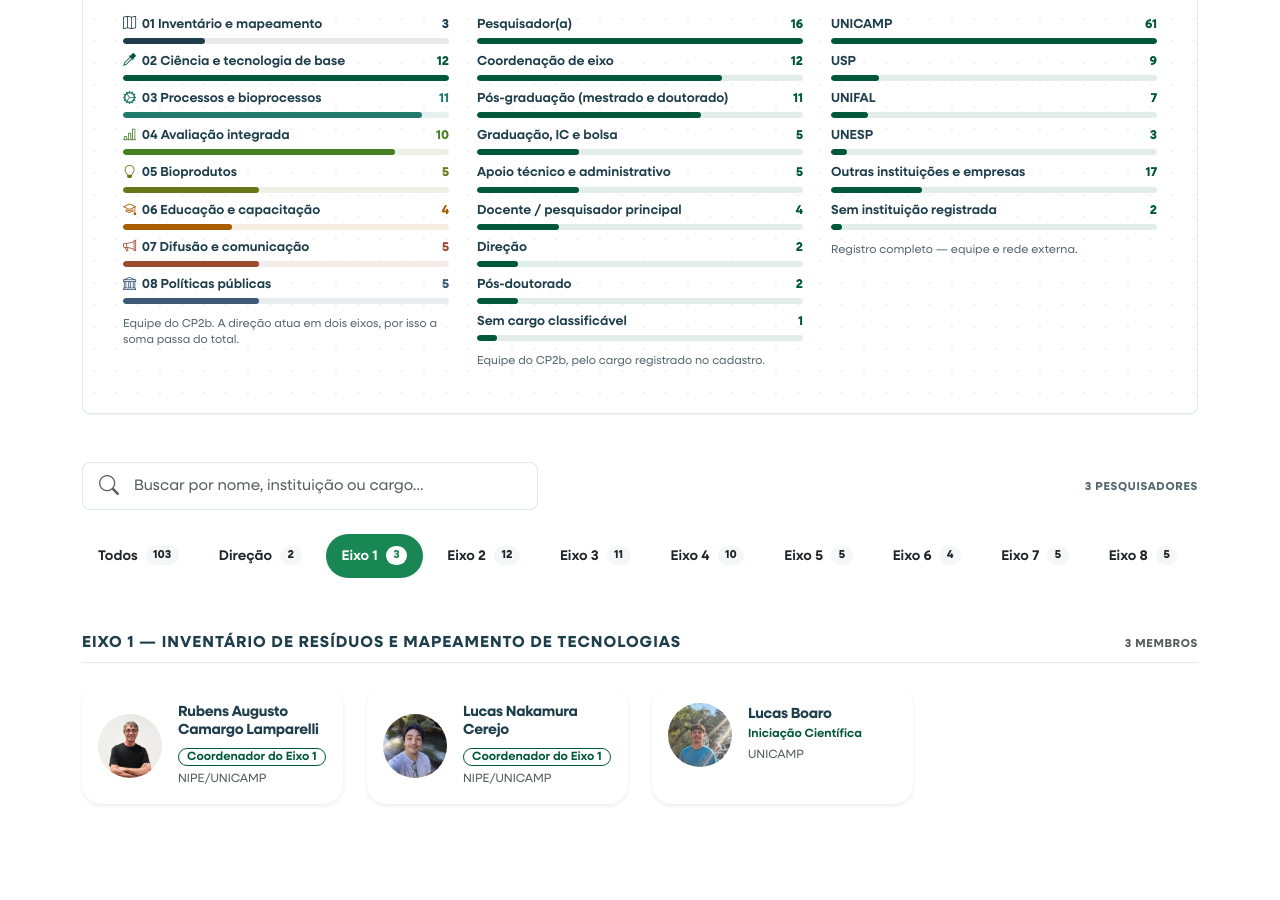
Team page — grouped by Eixo › opens a profile with the person’s CV links when their card is clicked
The width and height of the screenshot is (1280, 900).
(page scrolled)
expect the heading "Rubens Augusto Camargo Lamparelli" is shown: met, box [178,703,327,740]
expect the link "ORCID" is not shown: met
What coordinates should you click on to do the following:
click the button "Rubens Augusto Camargo Lamparelli"
I would click on:
 (212, 746)
Its box is [98,703,327,788].
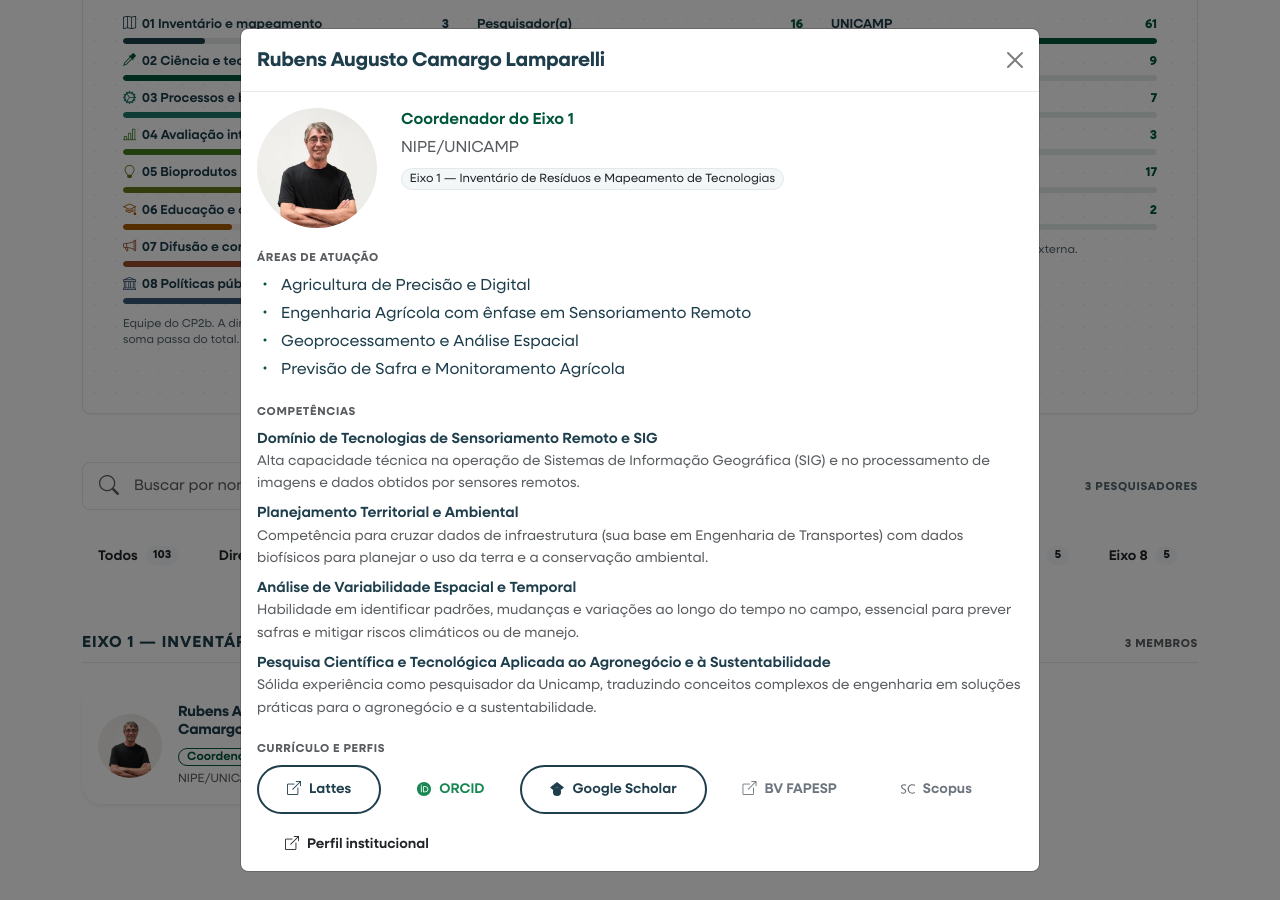
expect the heading "Rubens Augusto Camargo Lamparelli" is shown: met, box [257,45,605,75]
expect the link "Lattes" is shown: met, box [257,765,381,814]
expect the link "Google Scholar" is shown: met, box [520,765,707,814]
